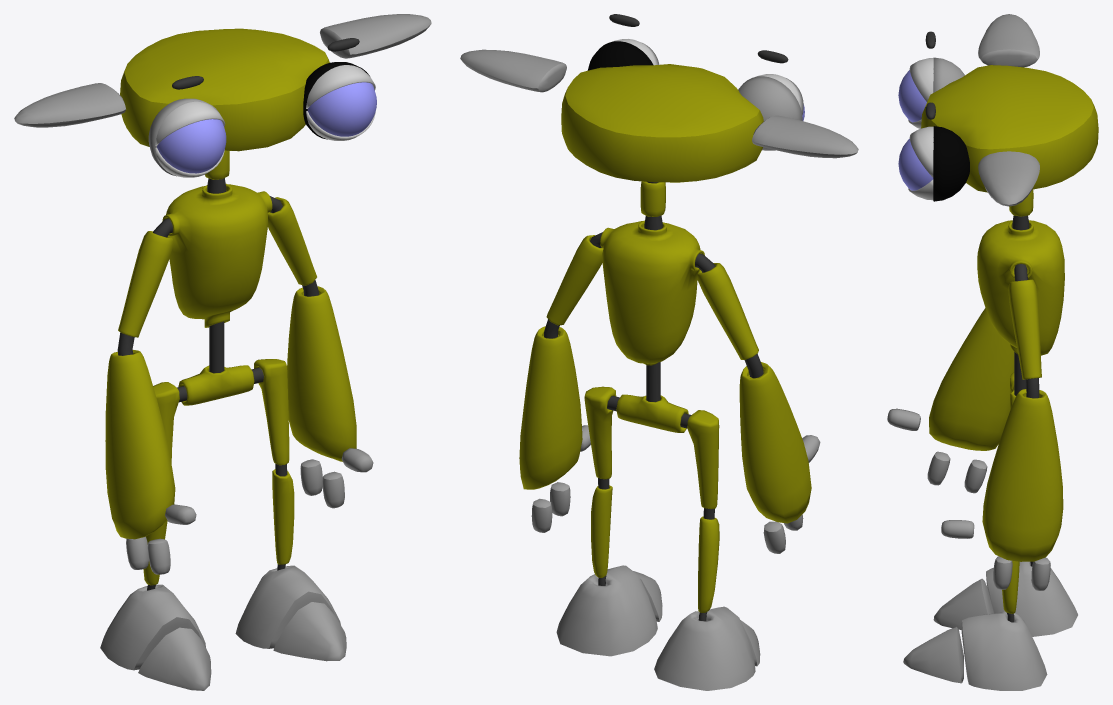
File: walk_end2.obj
The picture shows the model from 3 angles, left to right: view 1: azimuth 30°, elevation 25°; view 2: azimuth 150°, elevation 25°; view 3: azimuth 270°, elevation 25°; orthographic projection. The views are drawn at different scales.
Visible parts, largest first — view 1: Mesh polySurface50, Mesh polySurface41, Mesh polySurface37, Mesh polySurface18, Mesh polySurface48, Mesh polySurface26, Mesh polySurface10, Mesh polySurface24, Mesh polySurface8, Mesh polySurface38, Mesh polySurface47, Mesh polySurface6 (+15 smaller); view 2: Mesh polySurface41, Mesh polySurface50, Mesh polySurface48, Mesh polySurface37, Mesh polySurface18, Mesh polySurface10, Mesh polySurface26, Mesh polySurface47, Mesh polySurface38, Mesh polySurface44, Mesh polySurface28, Mesh polySurface51 (+7 smaller); view 3: Mesh polySurface18, Mesh polySurface50, Mesh polySurface37, Mesh polySurface41, Mesh polySurface10, Mesh polySurface48, Mesh polySurface26, Mesh polySurface44, Mesh polySurface51, Mesh polySurface4, Mesh polySurface8, Mesh polySurface47 (+15 smaller).
Part boxes in pixels (<box>): Mesh polySurface50: <box>124,28,327,105</box>; Mesh polySurface41: <box>162,183,272,327</box>; Mesh polySurface37: <box>105,350,175,539</box>; Mesh polySurface18: <box>287,286,356,461</box>; Mesh polySurface48: <box>120,55,329,151</box>; Mesh polySurface26: <box>100,584,205,670</box>; Mesh polySurface10: <box>235,565,340,648</box>; Mesh polySurface24: <box>138,627,211,690</box>; Mesh polySurface8: <box>273,602,346,661</box>; Mesh polySurface38: <box>118,231,173,337</box>; Mesh polySurface47: <box>14,83,125,123</box>; Mesh polySurface6: <box>307,82,376,136</box>; Mesh polySurface41: <box>600,220,704,365</box>; Mesh polySurface50: <box>565,64,759,137</box>; Mesh polySurface48: <box>561,89,763,182</box>; Mesh polySurface37: <box>739,362,811,523</box>; Mesh polySurface18: <box>519,326,582,489</box>; Mesh polySurface10: <box>556,565,657,656</box>; Mesh polySurface26: <box>654,606,755,690</box>; Mesh polySurface47: <box>752,115,858,154</box>; Mesh polySurface38: <box>697,263,758,359</box>; Mesh polySurface44: <box>460,49,564,88</box>; Mesh polySurface28: <box>687,410,719,508</box>; Mesh polySurface51: <box>546,235,603,325</box>; Mesh polySurface18: <box>982,389,1063,561</box>; Mesh polySurface50: <box>925,65,1093,149</box>; Mesh polySurface37: <box>929,308,1014,450</box>; Mesh polySurface41: <box>977,220,1064,355</box>; Mesh polySurface10: <box>962,611,1047,690</box>; Mesh polySurface48: <box>921,99,1098,192</box>; Mesh polySurface26: <box>986,561,1077,636</box>; Mesh polySurface44: <box>978,151,1039,204</box>; Mesh polySurface51: <box>1008,279,1041,379</box>; Mesh polySurface4: <box>933,126,969,201</box>; Mesh polySurface8: <box>903,626,961,683</box>; Mesh polySurface47: <box>978,14,1039,58</box>.
Size of the model in its own units: 10.05 by 14.3 by 4.74.
